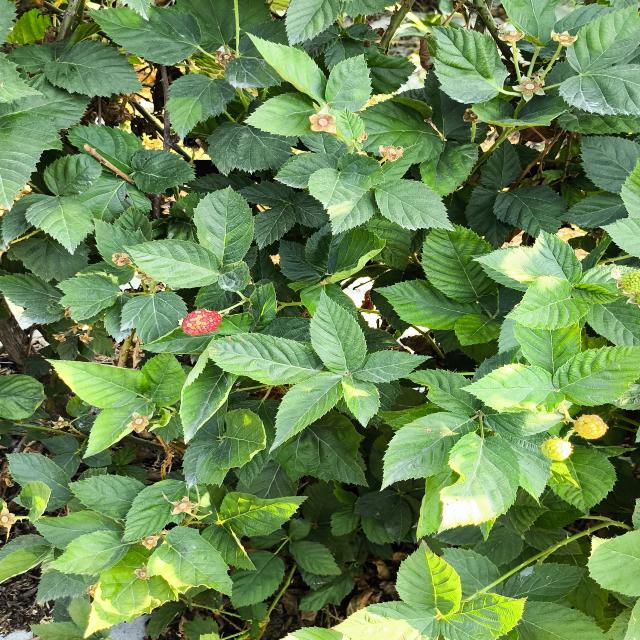naranja: (182, 309, 222, 336)
verde: (612, 270, 640, 307), (574, 415, 608, 439), (541, 438, 573, 461)
